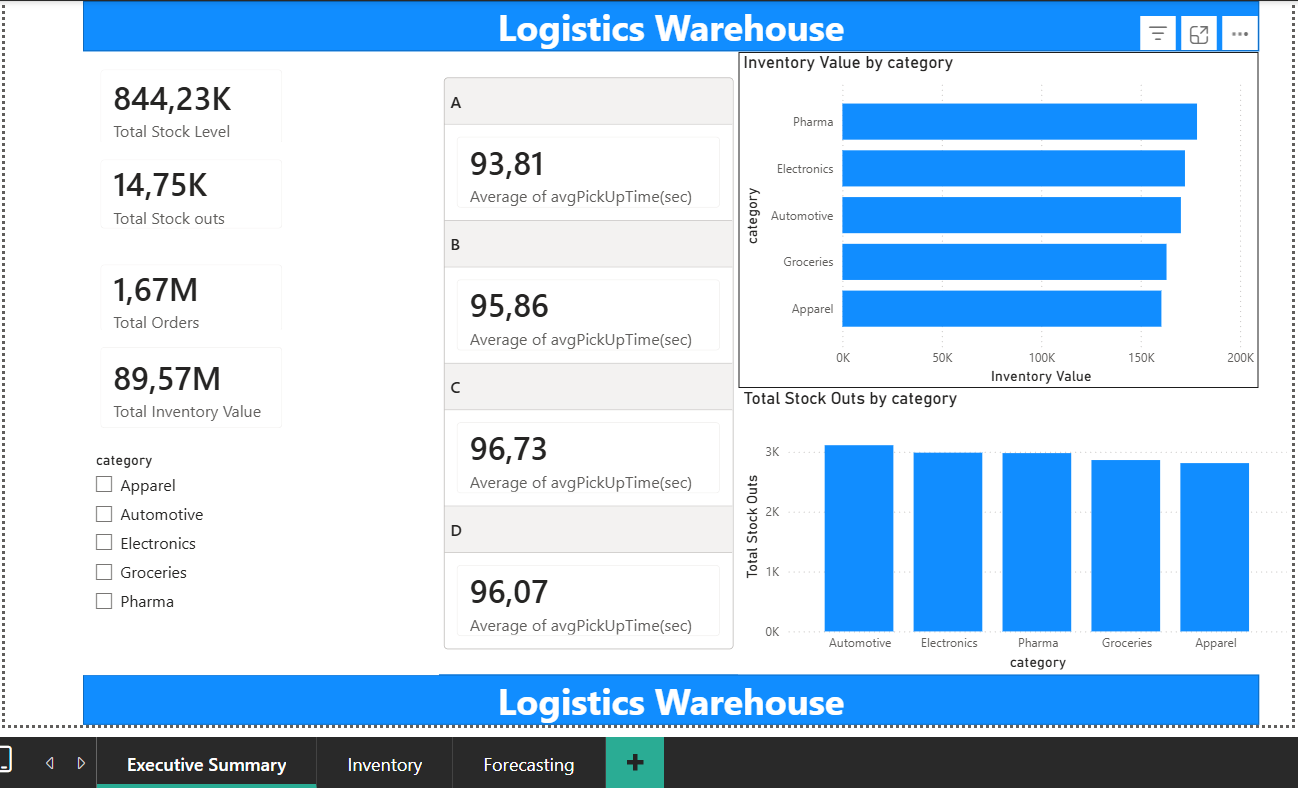

The dashboard page shown, as its layout file describes it:
{"tool":"powerbi","page":{"name":"Executive Summary","canvas":[1280,720],"ordinal":0},"visuals":[{"type":"cardVisual","fields":{"Data":["Sum(V_Warehouse_InventoryRisk.stock_level)"]},"box":[77,50,215.5,109.7],"z":0},{"type":"cardVisual","fields":{"Data":["Sum(V_Warehouse_StockOut.Total_stock_outs)"]},"box":[77,140.4,215.5,103.9],"z":1000},{"type":"cardVisual","fields":{"Data":["Sum(V_Warehouse_Revenue.total_orders)"]},"box":[77,244.3,215.5,102],"z":2000},{"type":"cardVisual","fields":{"Data":["Sum(V_Warehouse_Inv_Value.Inventory_value)"]},"box":[77,327.1,215.5,115.4],"z":3000},{"type":"cardVisual","fields":{"Data":["Avg(V_Warehouse_Efficiency.avgPickUpTime(sec))"],"Rows":["V_Warehouse_Efficiency.zone"]},"box":[430.9,50,298.2,619.5],"z":4000},{"type":"shape","box":[77,0,1169.7,50],"z":5000},{"type":"shape","box":[77,669.5,1169.7,50],"z":6000},{"type":"clusteredBarChart","fields":{"Y":["Sum(V_Warehouse_InventoryRisk.stock_level)"],"Category":["V_Warehouse_InventoryRisk.category"]},"box":[729.1,50,517.5,334.8],"z":7000},{"type":"columnChart","fields":{"Category":["V_Warehouse_StockOut.category"],"Y":["Sum(V_Warehouse_StockOut.Total_stock_outs)"]},"box":[729.1,384.8,550.2,284.7],"z":8000},{"type":"slicer","fields":{"Values":["V_Warehouse_StockOut.category"]},"box":[77,442.5,354,227],"z":9000}]}

Visuals, with their boxes on the page's 1280x720 design canvas (x1, y1, x2, y2). These are canvas units, not pixel positions in the 1298x788 screenshot, which may show the page scaled, cropped or inside an application window:
cardVisual - Sum(V_Warehouse_InventoryRisk.stock_level): 77:50:292:160
cardVisual - Sum(V_Warehouse_StockOut.Total_stock_outs): 77:140:292:244
cardVisual - Sum(V_Warehouse_Revenue.total_orders): 77:244:292:346
cardVisual - Sum(V_Warehouse_Inv_Value.Inventory_value): 77:327:292:442
cardVisual - Avg(V_Warehouse_Efficiency.avgPickUpTime(sec)) x V_Warehouse_Efficiency.zone: 431:50:729:670
shape: 77:0:1247:50
shape: 77:670:1247:720
clusteredBarChart - Sum(V_Warehouse_InventoryRisk.stock_level) x V_Warehouse_InventoryRisk.category: 729:50:1247:385
columnChart - V_Warehouse_StockOut.category x Sum(V_Warehouse_StockOut.Total_stock_outs): 729:385:1279:670
slicer - V_Warehouse_StockOut.category: 77:442:431:670
